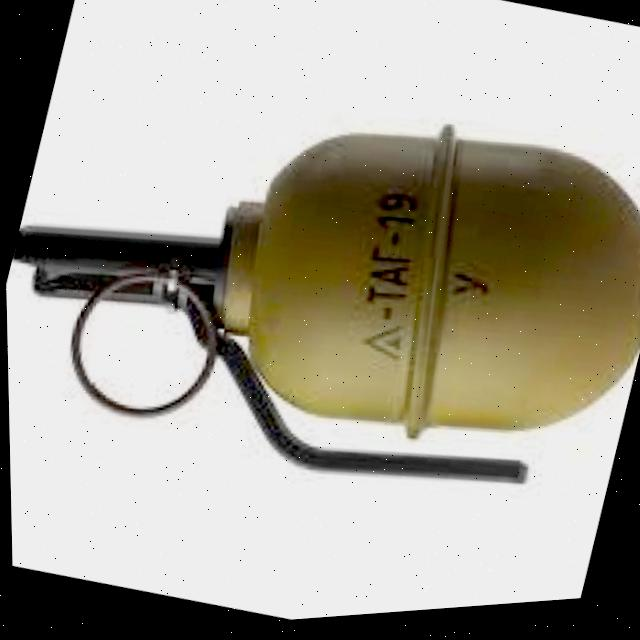grenade: (0, 0, 640, 612)
